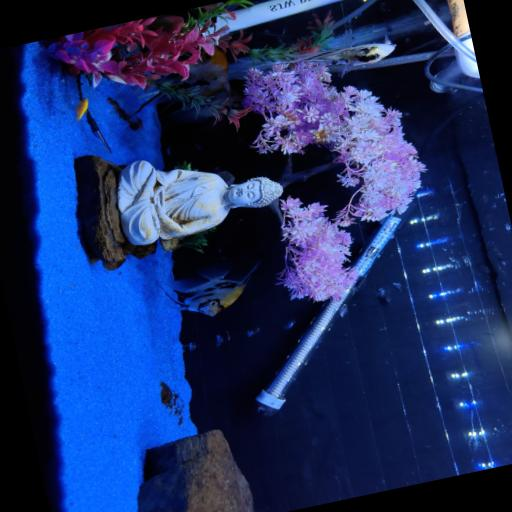Fish: (280, 29, 395, 73), (165, 264, 257, 315), (289, 29, 395, 70), (72, 98, 87, 121)
